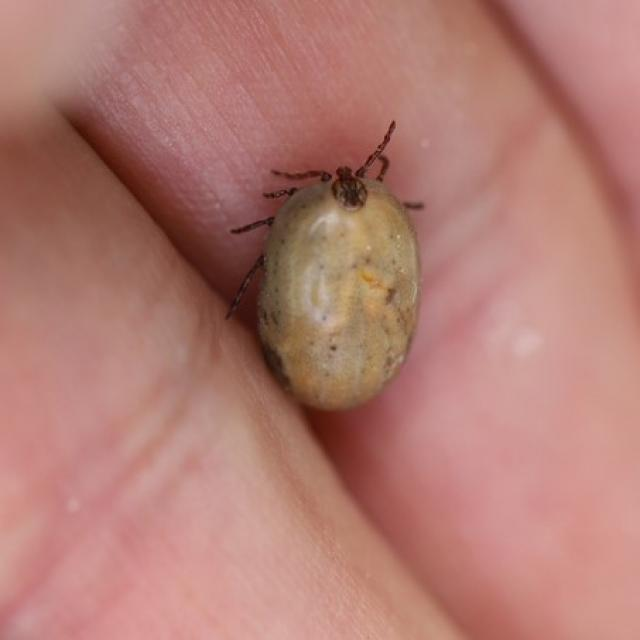Dermacentor Reticulatus-F-Fed: (226, 123, 427, 413)
